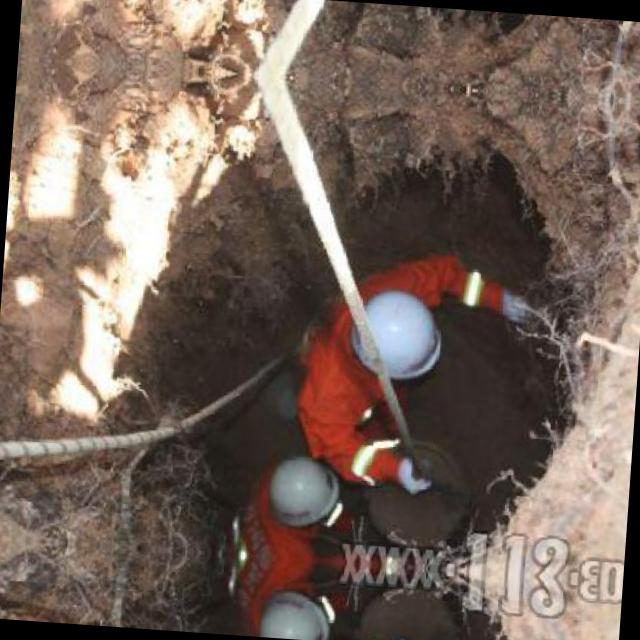helmet: (340, 286, 450, 400), (256, 454, 351, 536), (248, 582, 342, 640)
